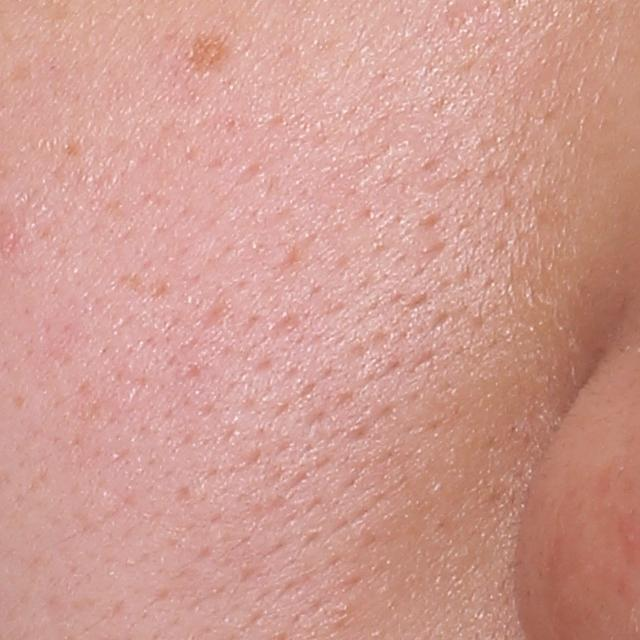melasma: (178, 25, 241, 86)
